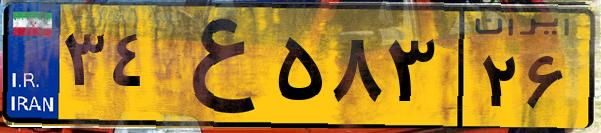2: (475, 38, 525, 113)
3: (385, 28, 445, 110), (57, 26, 110, 100)
4: (110, 28, 158, 98)
5: (270, 28, 330, 110)
6: (525, 38, 570, 115)
8: (330, 28, 385, 110)
ع: (158, 12, 270, 120)
